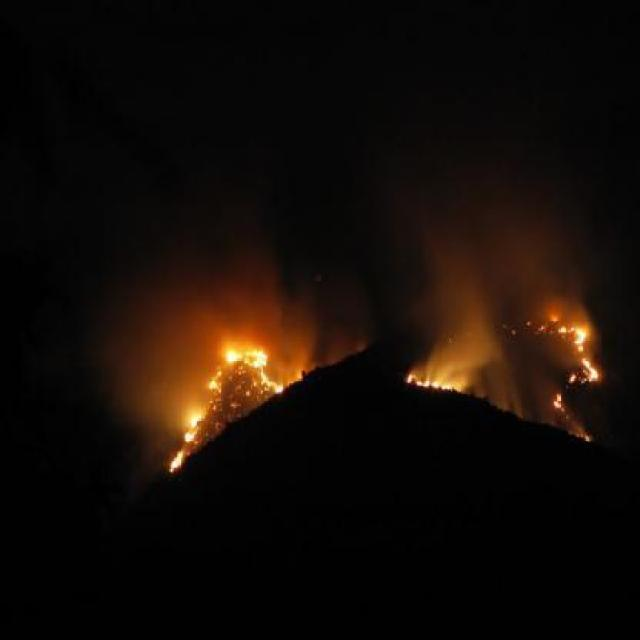Fire: (167, 339, 287, 470), (516, 290, 602, 432), (401, 364, 472, 404)
